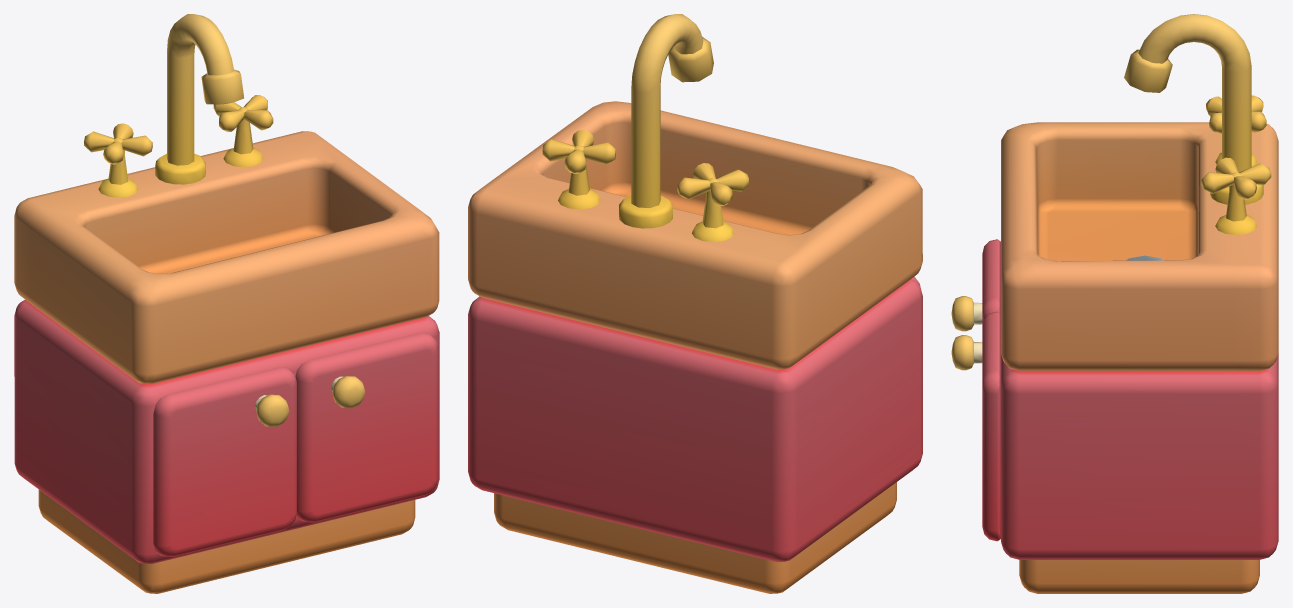
Rendered from Kitchen_sink_001.fbx.
3 renders of one model, left to right at view 1: azimuth 30°, elevation 25°; view 2: azimuth 150°, elevation 25°; view 3: azimuth 270°, elevation 25°, orthographic. The views are drawn at different scales.
Parts seen in each view (by area): view 1: Kitchen_sink_001, Kitchen_sink_door_001, Kitchen_sink_door_002; view 2: Kitchen_sink_001; view 3: Kitchen_sink_001, Kitchen_sink_door_002, Kitchen_sink_door_001.
Boxes of the visible parts, <box> form: Kitchen_sink_001: <box>14,14,439,593</box>; Kitchen_sink_door_001: <box>153,367,296,556</box>; Kitchen_sink_door_002: <box>295,332,438,522</box>; Kitchen_sink_001: <box>468,14,922,593</box>; Kitchen_sink_001: <box>1001,14,1278,593</box>; Kitchen_sink_door_002: <box>951,311,1000,541</box>; Kitchen_sink_door_001: <box>951,239,1000,331</box>.
Size of the model in its own units: 0.8503 by 1.31 by 0.7511.
